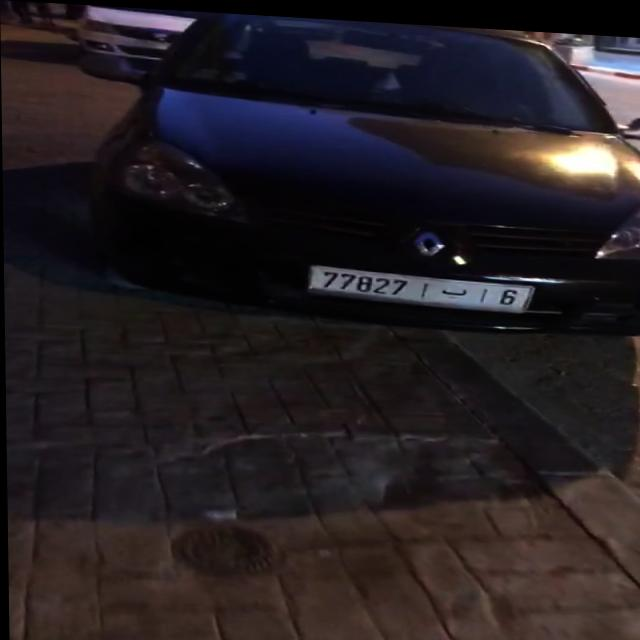License-Plate: (308, 261, 532, 306)
